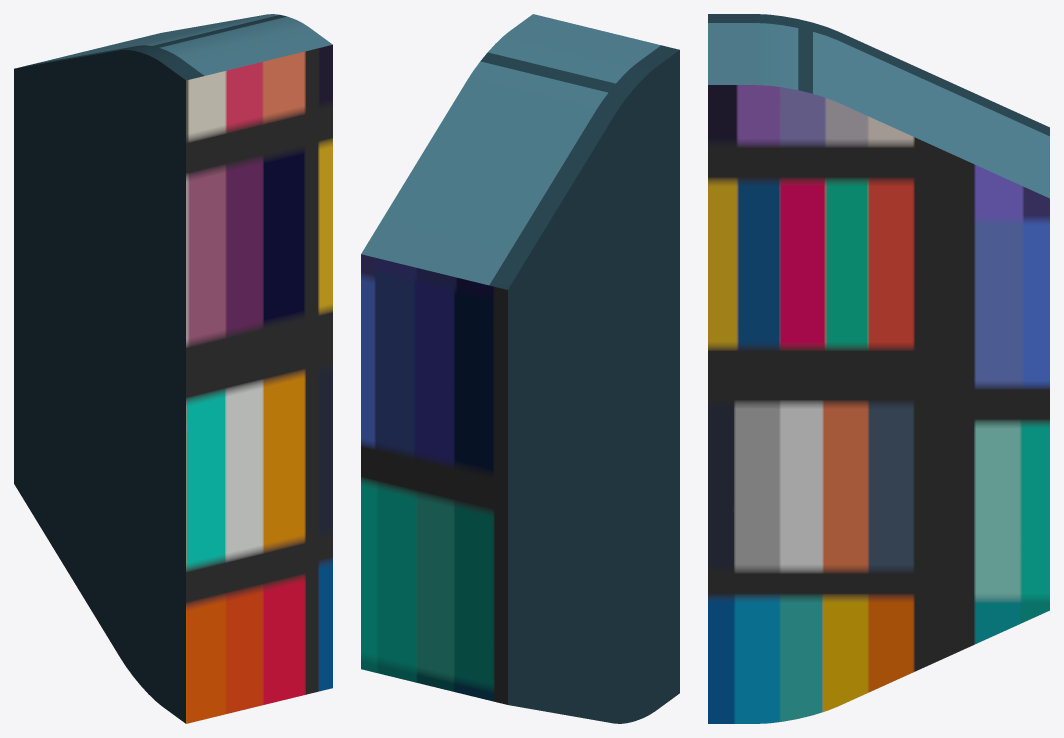
Rendered from tile_0_1_5.gltf.
3 views of the same model, side by side, from view 1: azimuth 30°, elevation 25°; view 2: azimuth 150°, elevation 25°; view 3: azimuth 270°, elevation 25° (orthographic).
Parts seen in each view (by area): view 1: arena.sides.high.004; view 2: arena.sides.high.004; view 3: arena.sides.high.004.
Part boxes in pixels (left/top/right/bottom): arena.sides.high.004: left=14, top=14, right=332, bottom=723; arena.sides.high.004: left=361, top=14, right=679, bottom=723; arena.sides.high.004: left=708, top=14, right=1049, bottom=723.
Size of the model in its own units: 3.94 by 16.5 by 8.
1 material, 1 textured.
